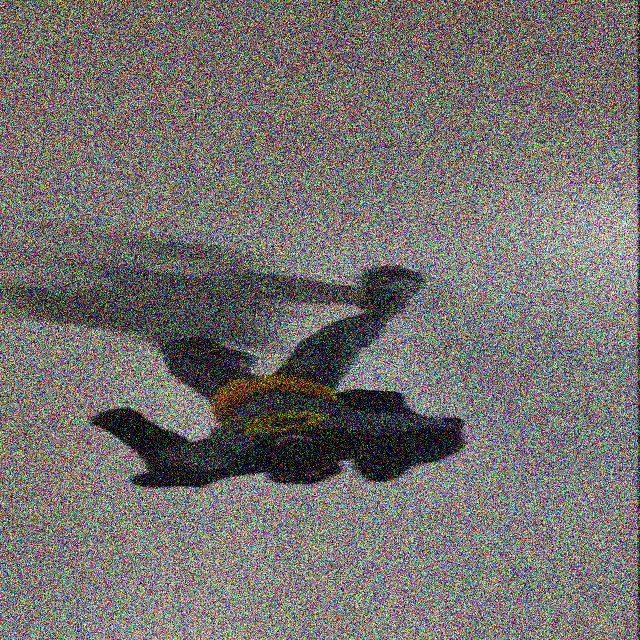Batman: (73, 233, 491, 503)
